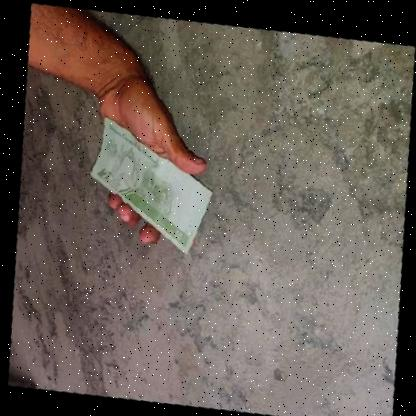vef_back: (78, 112, 221, 256)
